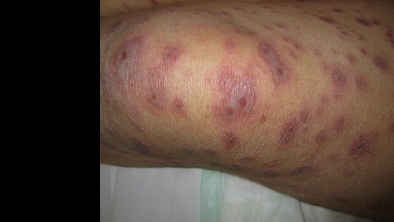SJS-TEN: (190, 0, 394, 216), (81, 21, 201, 167)
